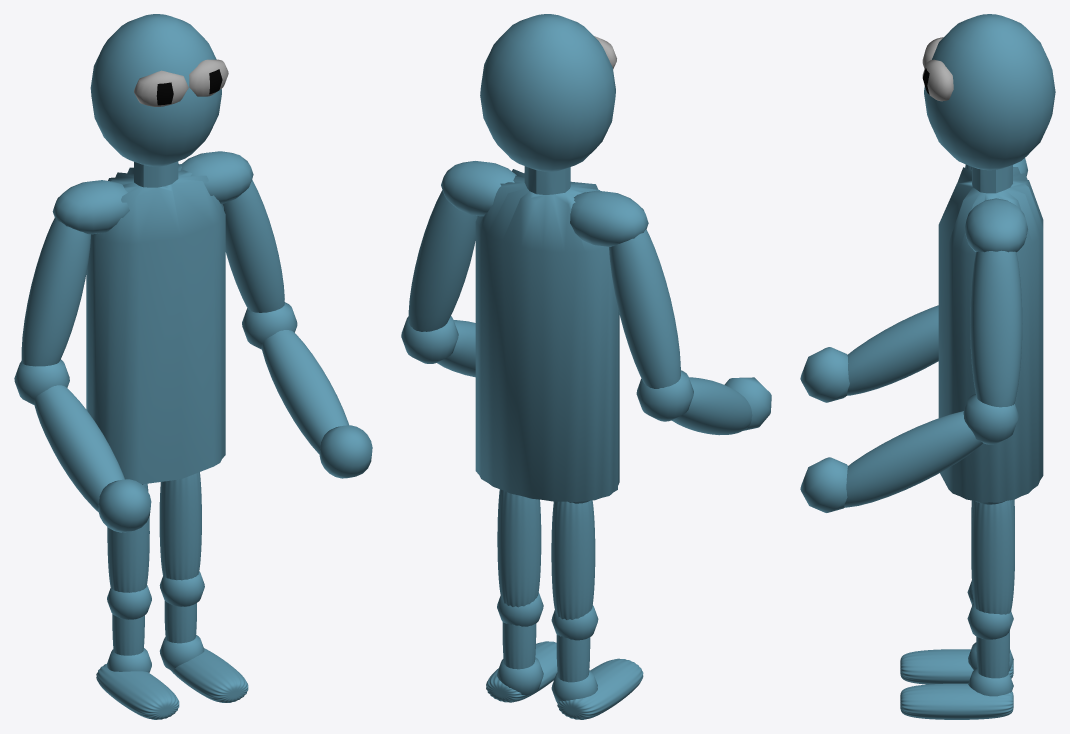
Rendered from enemy-base.fbx.
3 views of the same model, side by side, from view 1: azimuth 30°, elevation 25°; view 2: azimuth 150°, elevation 25°; view 3: azimuth 270°, elevation 25° (orthographic). The views are drawn at different scales.
Visible parts, largest first — view 1: pCylinder7; view 2: pCylinder7; view 3: pCylinder7.
Boxes of the visible parts, box(x1,y1,x2,y2) form: pCylinder7: box(14, 14, 372, 719); pCylinder7: box(401, 14, 771, 719); pCylinder7: box(800, 14, 1055, 719).
Bounding box in the file's own units: 3.32 × 7.65 × 2.6.
